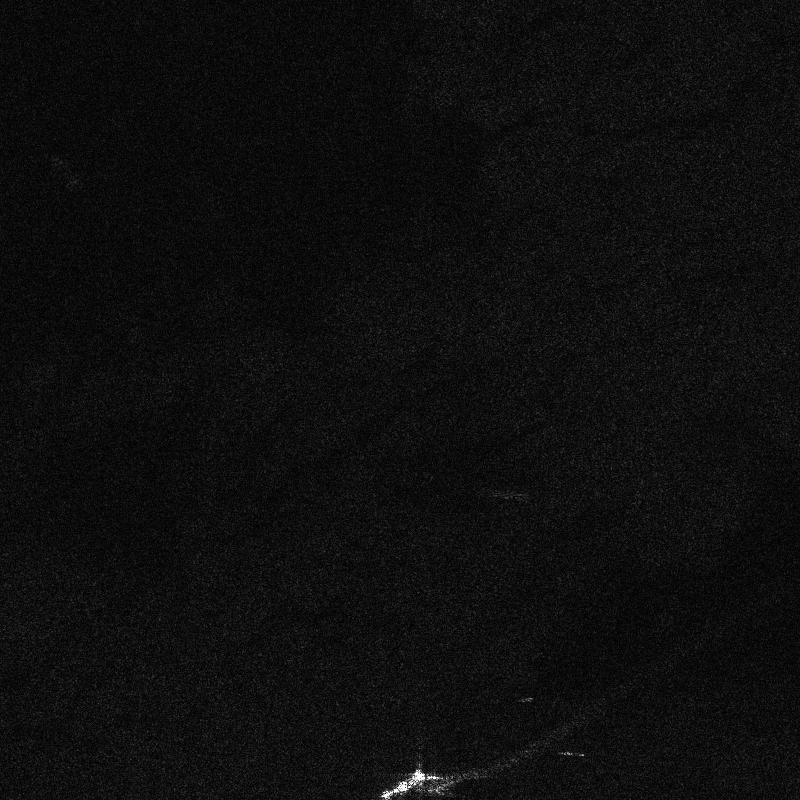ship: (380, 768, 440, 799)
